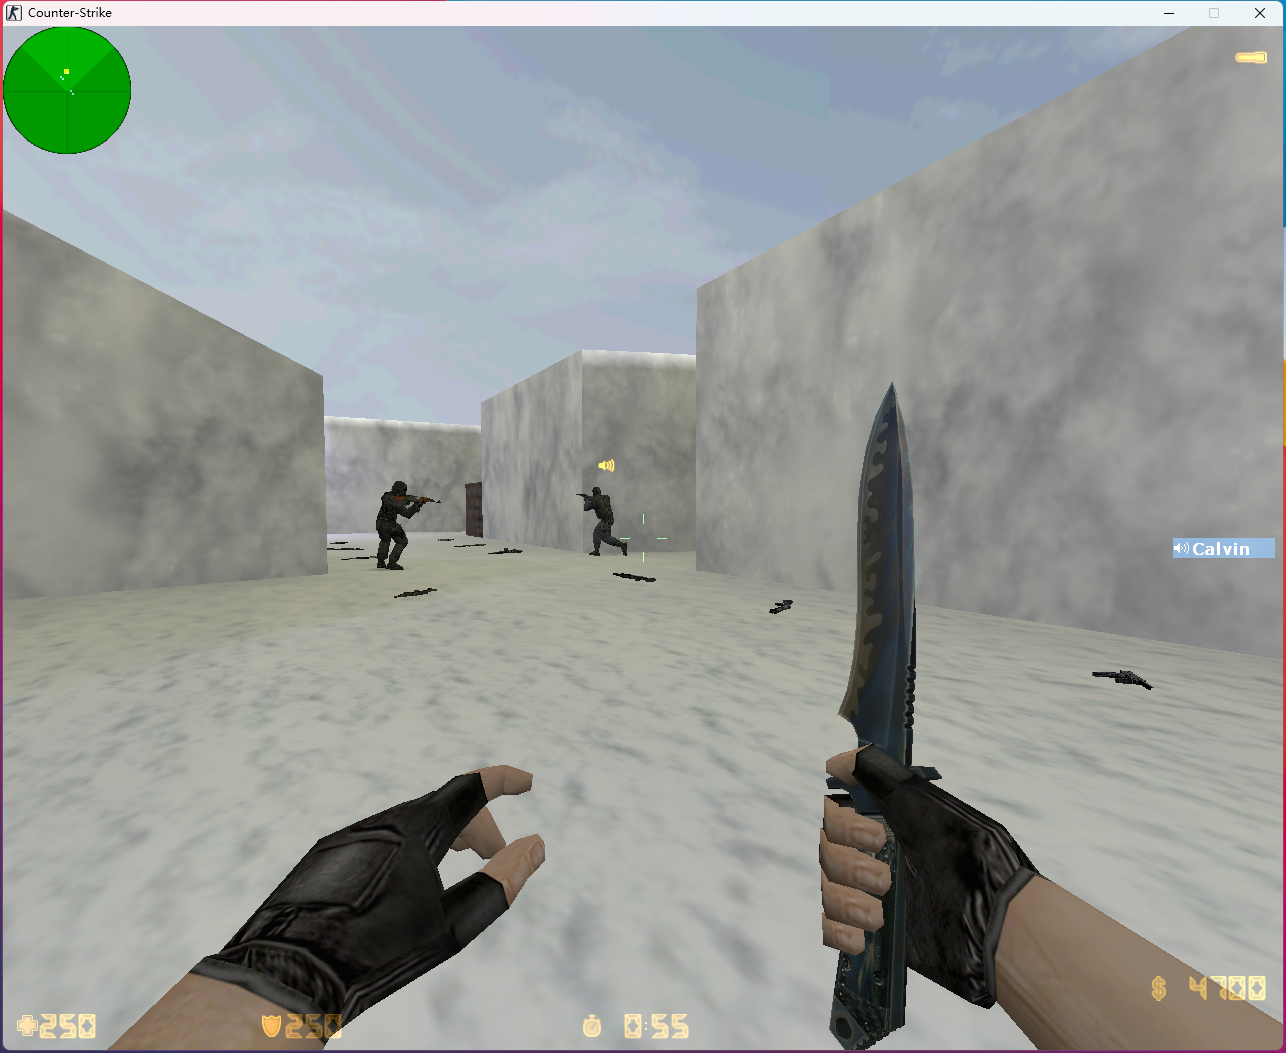C: (373, 480, 426, 571), (575, 487, 626, 557)
weapon: (1092, 662, 1150, 689), (391, 585, 437, 599), (610, 570, 654, 582), (770, 596, 791, 614), (488, 545, 522, 555), (454, 543, 488, 549), (340, 555, 381, 560), (321, 546, 360, 550)
